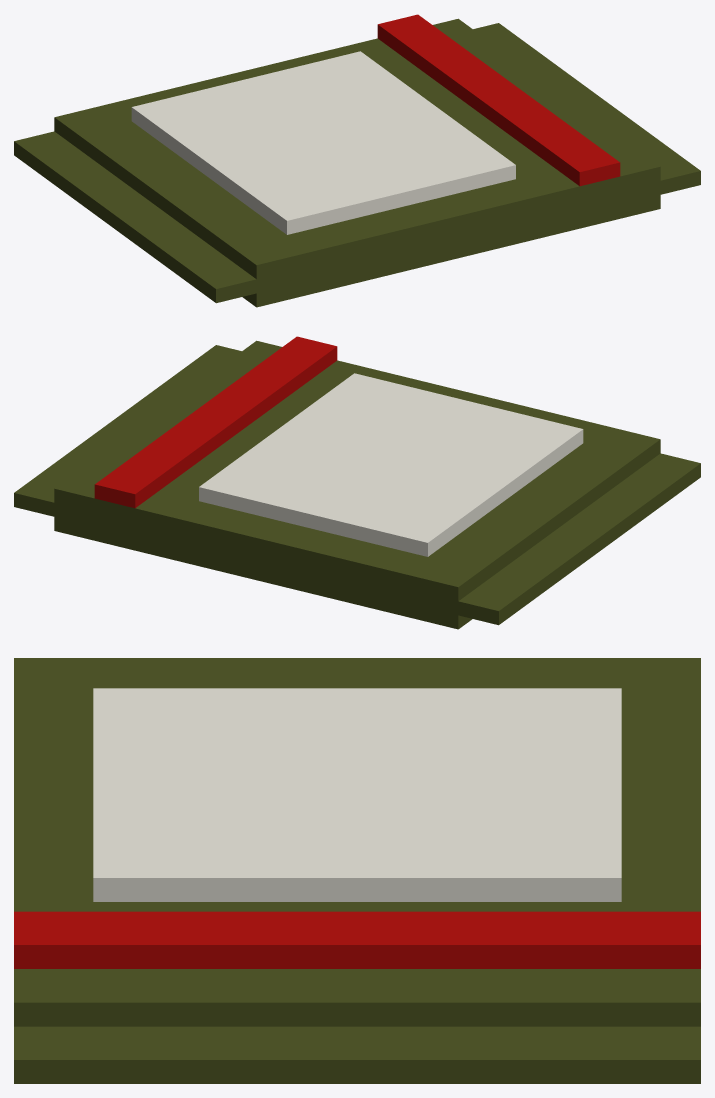
Rendered from hemostatic_powder.glb.
3 renders of one model, top to bottom at view 1: azimuth 30°, elevation 25°; view 2: azimuth 150°, elevation 25°; view 3: azimuth 270°, elevation 25°, orthographic. The views are drawn at different scales.
Parts seen in each view (by area): view 1: hemostatic_powder:compound; view 2: hemostatic_powder:compound; view 3: hemostatic_powder:compound.
Boxes of the visible parts, x1,y1,x2,y2 form: hemostatic_powder:compound: (14, 14, 700, 307); hemostatic_powder:compound: (14, 336, 700, 629); hemostatic_powder:compound: (14, 658, 700, 1083).
Size of the model in its own units: 0.072 by 0.008 by 0.052.
